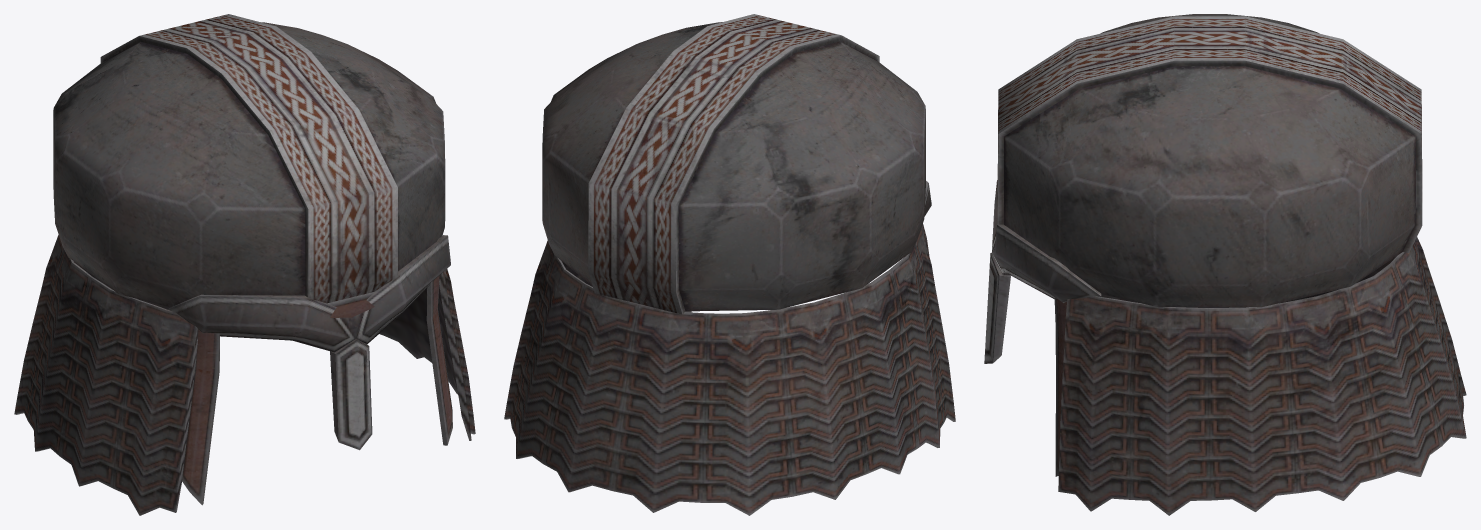
The model's file is sk_dwarf_iron_helmet_med_d2.fbx.
3 renders of one model, left to right at view 1: azimuth 30°, elevation 25°; view 2: azimuth 150°, elevation 25°; view 3: azimuth 270°, elevation 25°, orthographic. The views are drawn at different scales.
Visible parts, largest first — view 1: sk_dwarf_iron_helmet_med_d2; view 2: sk_dwarf_iron_helmet_med_d2; view 3: sk_dwarf_iron_helmet_med_d2.
Part boxes in pixels (x1,y1,x2,y2): sk_dwarf_iron_helmet_med_d2: [14, 14, 475, 515]; sk_dwarf_iron_helmet_med_d2: [504, 14, 955, 515]; sk_dwarf_iron_helmet_med_d2: [984, 14, 1466, 515].
Bounding box in the file's own units: 0.2993 × 0.3195 × 0.2851.
